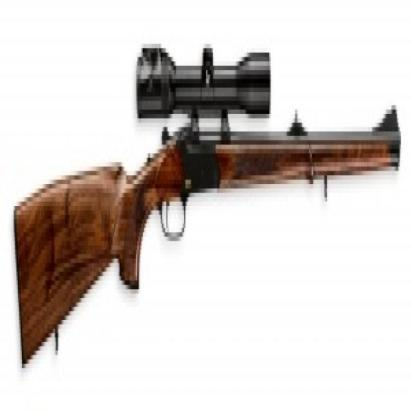Gun: (11, 42, 402, 373)
